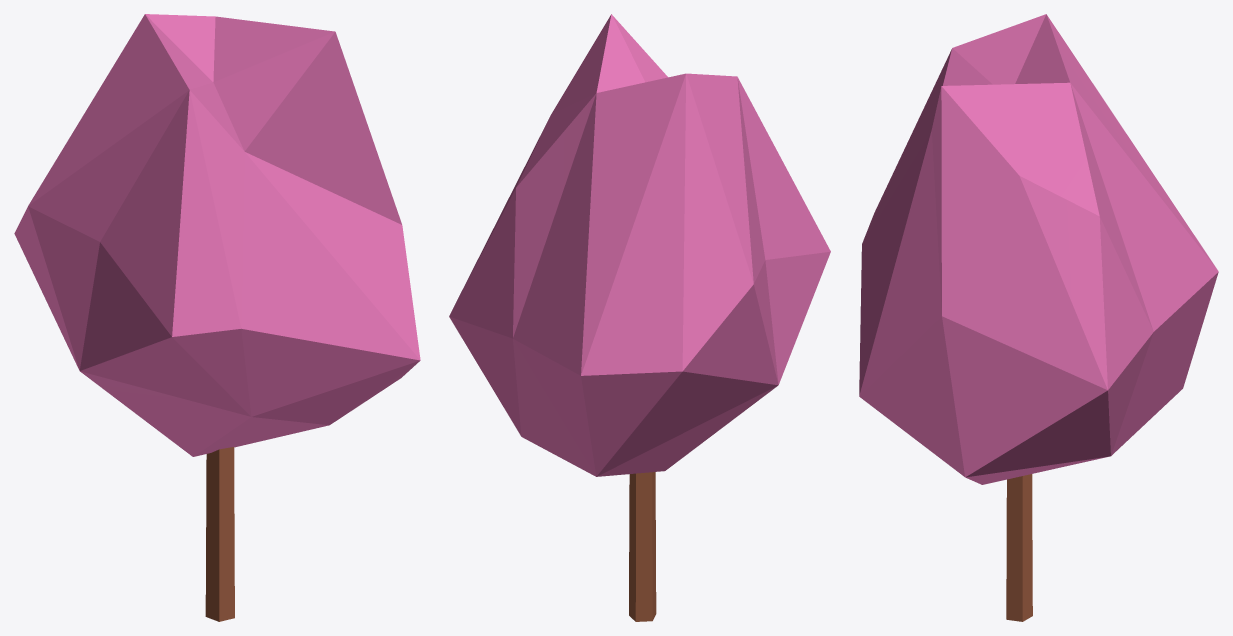
Rendered from Tulip_D.fbx.
3 renders of one model, left to right at view 1: azimuth 30°, elevation 25°; view 2: azimuth 150°, elevation 25°; view 3: azimuth 270°, elevation 25°, orthographic. The views are drawn at different scales.
Parts seen in each view (by area): view 1: Tulip_D_geo; view 2: Tulip_D_geo; view 3: Tulip_D_geo.
Boxes of the visible parts, x1,y1,x2,y2 form: Tulip_D_geo: [14, 14, 420, 621]; Tulip_D_geo: [449, 14, 830, 621]; Tulip_D_geo: [859, 14, 1218, 621].
Size of the model in its own units: 23.45 by 43.03 by 24.44.
